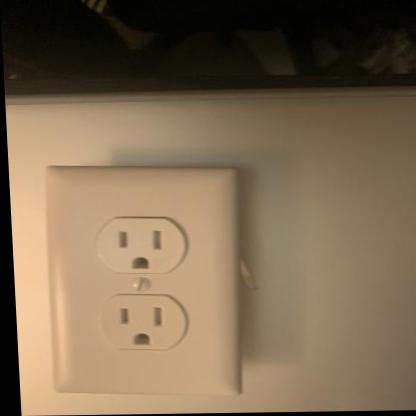OUTLET: (41, 167, 248, 395)
